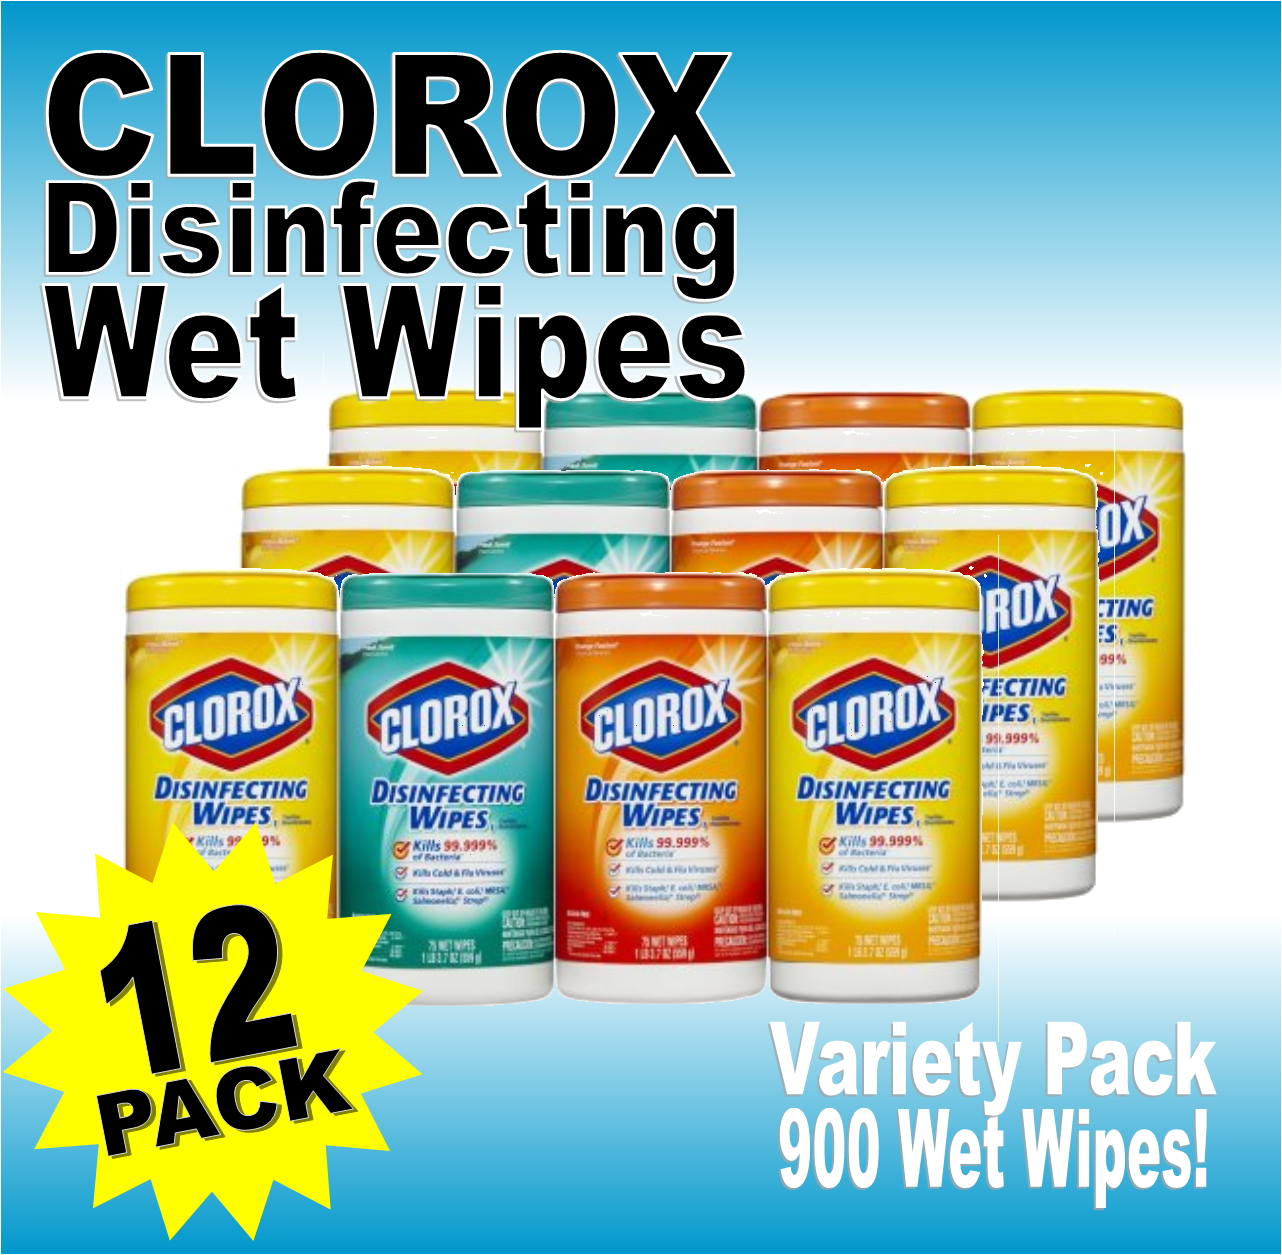Wipes: (970, 377, 1200, 826), (879, 461, 1107, 904), (763, 569, 991, 1008), (548, 565, 772, 1004), (116, 568, 338, 999), (338, 565, 553, 1004), (662, 463, 895, 582), (451, 465, 678, 585), (235, 468, 455, 584), (758, 372, 976, 488), (534, 374, 762, 469), (319, 385, 549, 471)
